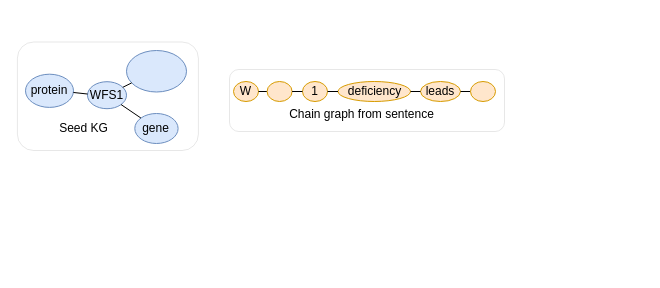
This 660x288 diagram has some shape labels left out. Each missing label, with the centre of its shape:
encoding: point 156,71
FS: point 279,91
to...: point 483,91
